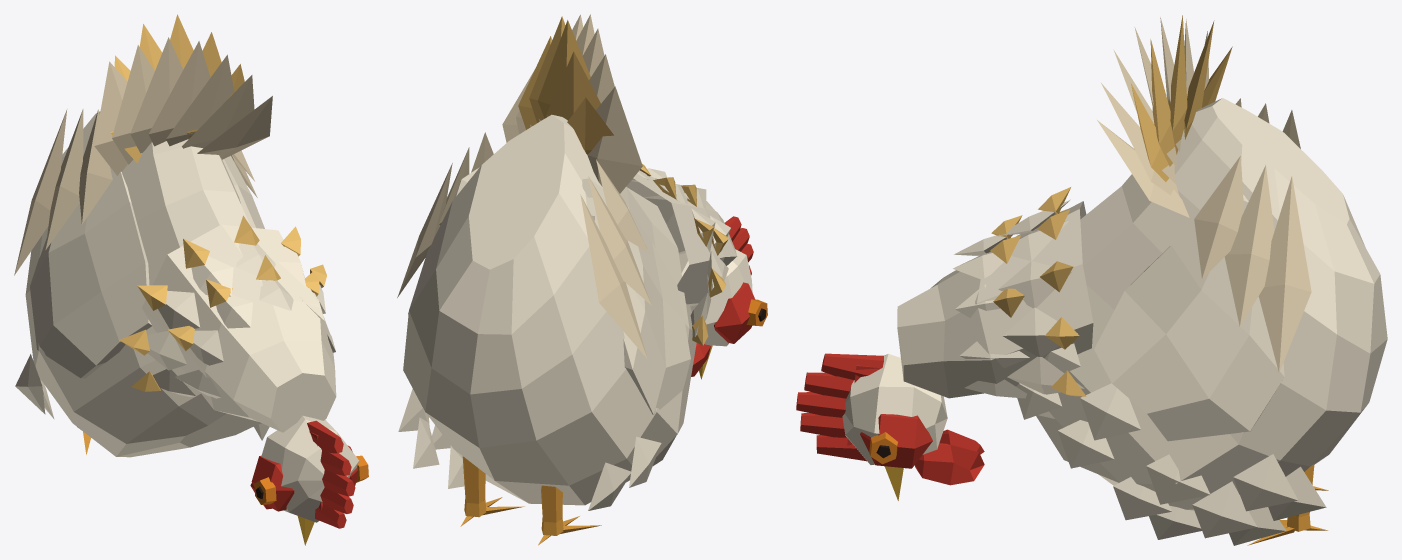
File: chicken-feeding.glb
3 views of the same model, side by side, from view 1: azimuth 30°, elevation 25°; view 2: azimuth 150°, elevation 25°; view 3: azimuth 270°, elevation 25° (orthographic). The views are drawn at different scales.
Visible parts, largest first — view 1: body, neck, wing_r, tail_under, hackles, wing_r_plates, hackle_tips, head, comb, tail, breast_plates, face (+2 smaller); view 2: body, wing_r, wing_r_plates, tail, tail_under, breast_plates, neck, wing_l_plates, hackles, head, hackle_tips, face (+3 smaller); view 3: body, wing_l, breast_plates, neck, wing_l_plates, hackles, tail, head, tail_under, comb, hackle_tips, wattle (+2 smaller).
Part boxes in pixels (<box>): body: <box>25,111,261,457</box>; neck: <box>142,224,336,432</box>; wing_r: <box>30,147,151,378</box>; tail_under: <box>94,37,272,175</box>; hackles: <box>147,243,335,398</box>; wing_r_plates: <box>14,109,112,275</box>; hackle_tips: <box>119,215,326,391</box>; head: <box>261,415,359,522</box>; comb: <box>307,420,355,528</box>; tail: <box>110,14,244,163</box>; breast_plates: <box>15,354,269,440</box>; face: <box>251,445,357,511</box>; body: <box>403,114,696,505</box>; wing_r: <box>582,178,690,414</box>; wing_r_plates: <box>580,159,651,359</box>; tail: <box>518,16,613,154</box>; tail_under: <box>502,14,642,193</box>; breast_plates: <box>398,389,661,510</box>; neck: <box>626,173,737,306</box>; wing_l_plates: <box>397,132,493,297</box>; hackles: <box>631,168,730,337</box>; head: <box>678,249,752,346</box>; hackle_tips: <box>640,164,728,345</box>; face: <box>714,282,755,343</box>; body: <box>1036,98,1387,510</box>; wing_l: <box>1094,195,1284,441</box>; breast_plates: <box>1016,343,1326,545</box>; neck: <box>897,201,1093,398</box>; wing_l_plates: <box>1194,156,1311,372</box>; hackles: <box>953,199,1084,398</box>; tail: <box>1131,15,1232,181</box>; head: <box>842,354,947,464</box>; tail_under: <box>1097,17,1208,217</box>; comb: <box>796,353,883,461</box>; hackle_tips: <box>990,187,1086,396</box>; wattle: <box>914,429,984,485</box>.
Size of the model in its own units: 0.2013 by 0.3586 by 0.3859.
